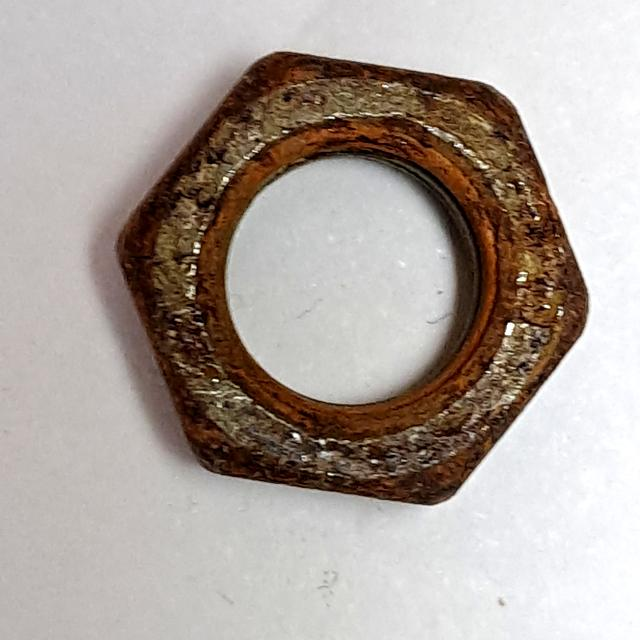Rust: (102, 32, 602, 520)
